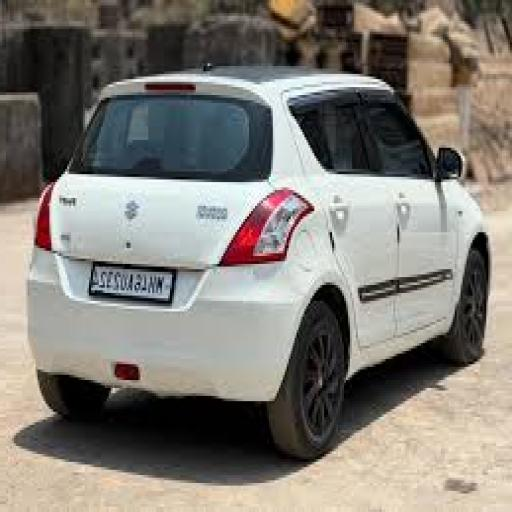License: (89, 260, 179, 300)
